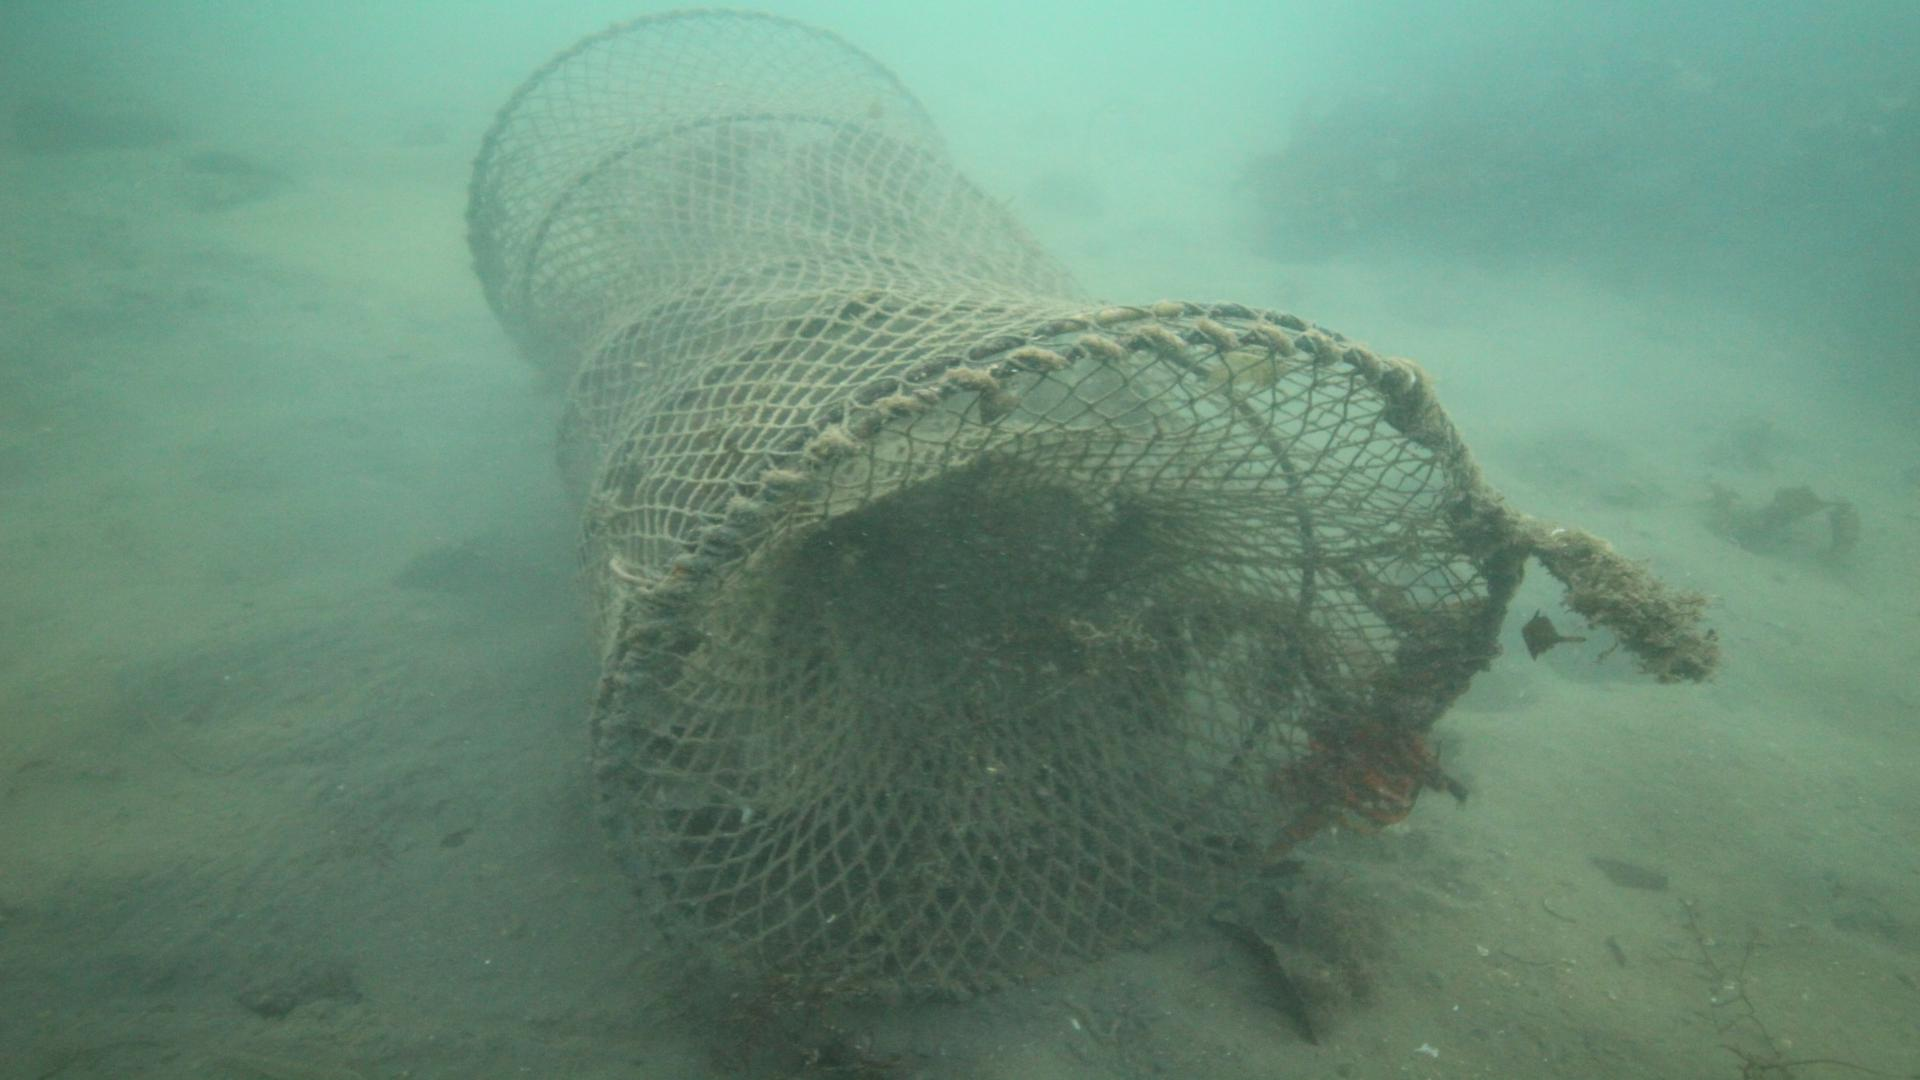spring fish trap: (462, 7, 1526, 998)
